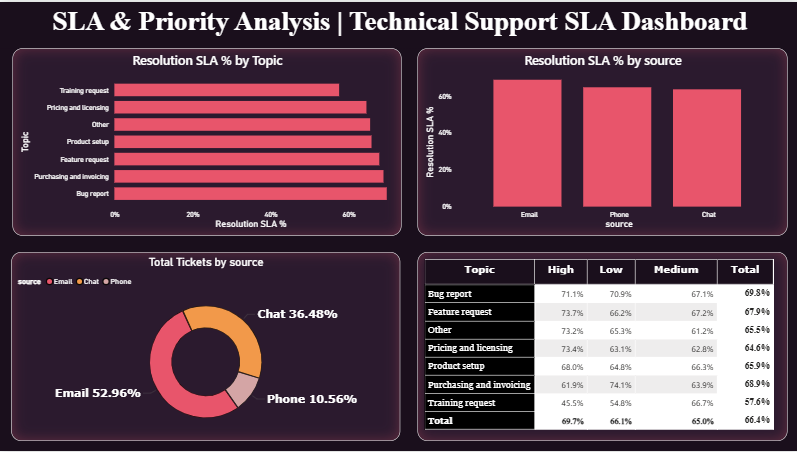

What the dashboard file says about the page in this screenshot:
{"tool":"powerbi","page":{"name":"SLA & Priority Analysis","canvas":[1280,720],"ordinal":2},"visuals":[{"type":"textbox","box":[0,0,1280,74],"z":0},{"type":"clusteredBarChart","fields":{"Category":["dim_topic.topic"],"Y":["fact_tickets.Resolution SLA %"]},"box":[20,74,622,300],"z":1000},{"type":"donutChart","fields":{"Category":["dim_source.source"],"Y":["fact_tickets.Total Tickets"]},"box":[18,400,622,302],"z":2000},{"type":"clusteredColumnChart","fields":{"Category":["dim_source.source"],"Y":["fact_tickets.Resolution SLA %"]},"box":[668,74,592,300],"z":3000},{"type":"pivotTable","fields":{"Rows":["dim_topic.topic"],"Columns":["dim_priority.priority"],"Values":["fact_tickets.Resolution SLA %"]},"box":[668,400,592,302],"z":4000}]}

Visuals, with their boxes in screenshot pixels (x1, y1, x2, y2), scaled from the page's 1280x720 canvas onto the 797x452 screenshot:
textbox: [left=0, top=0, right=796, bottom=46]
clusteredBarChart - dim_topic.topic x fact_tickets.Resolution SLA %: [left=12, top=46, right=400, bottom=235]
donutChart - dim_source.source x fact_tickets.Total Tickets: [left=11, top=251, right=398, bottom=441]
clusteredColumnChart - dim_source.source x fact_tickets.Resolution SLA %: [left=416, top=46, right=785, bottom=235]
pivotTable - dim_topic.topic x dim_priority.priority: [left=416, top=251, right=785, bottom=441]
